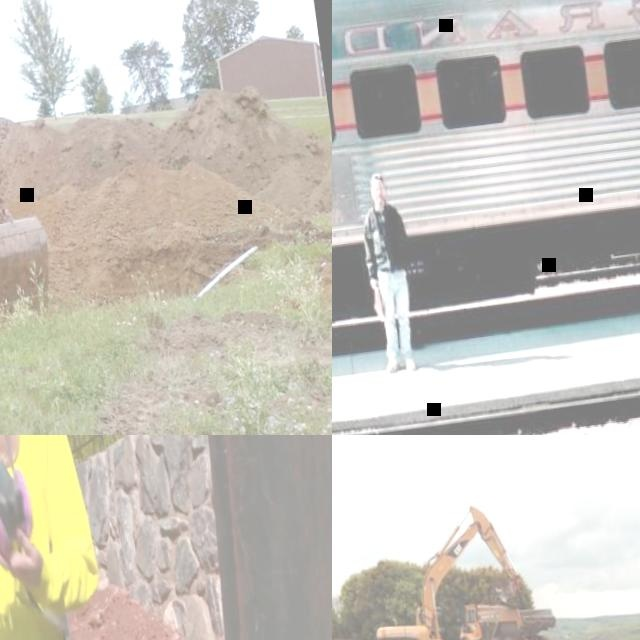Mask: (0, 453, 39, 568)
NO-Hardhat: (366, 171, 382, 184)
NO-Mask: (373, 194, 384, 205)
NO-Safety Vest: (0, 435, 81, 640), (364, 205, 406, 275)
Person: (0, 435, 124, 640), (354, 167, 422, 372)
machinery: (357, 494, 561, 640), (0, 3, 57, 339)
